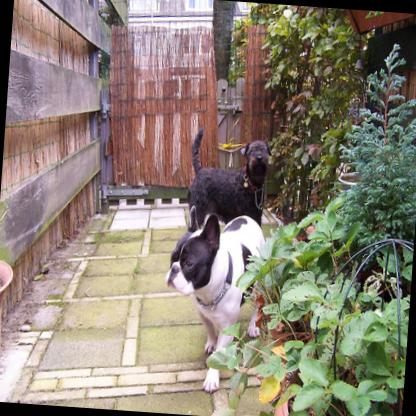French_bulldog: (154, 199, 272, 394)
